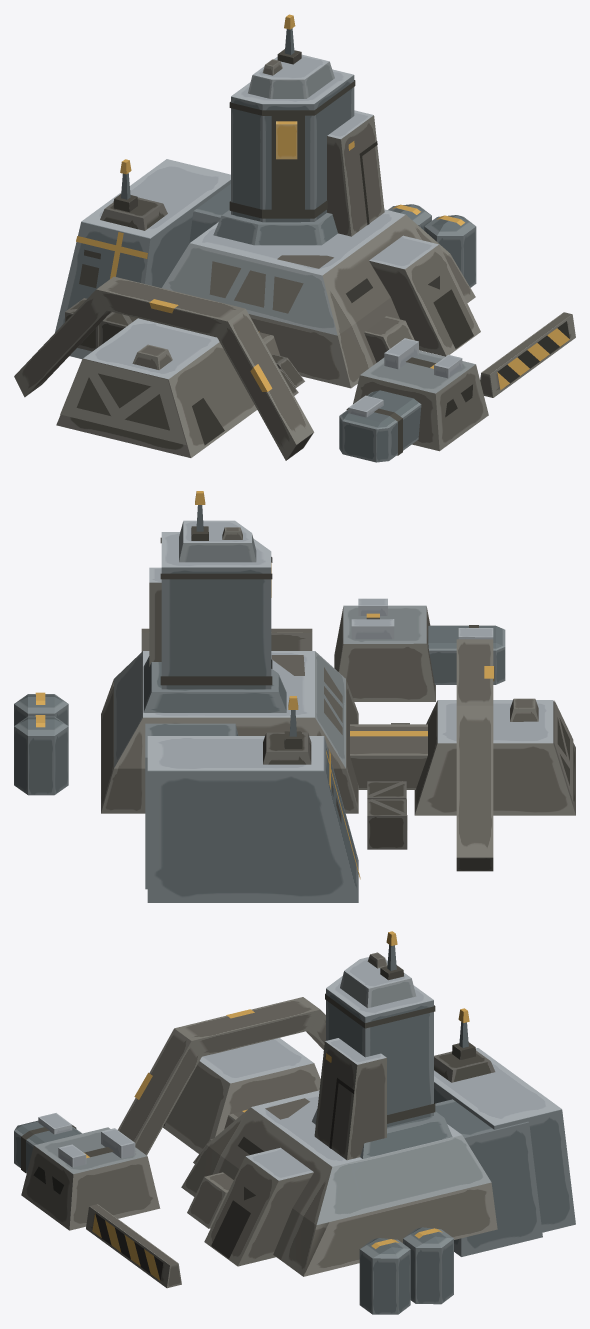
Rendered from outpost3.FBX.
The picture shows the model from 3 angles, top to bottom: view 1: azimuth 30°, elevation 25°; view 2: azimuth 150°, elevation 25°; view 3: azimuth 270°, elevation 25°; orthographic projection. The views are drawn at different scales.
Visible parts, largest first — view 1: outpost3, b, f, a, c; view 2: outpost3, b, c; view 3: outpost3, b, f.
Boxes of the visible parts, x1,y1,x2,y2 form: outpost3: (14,14,575,462); b: (100,159,167,230); f: (364,316,419,362); a: (276,121,297,159); c: (132,344,172,369); outpost3: (14,491,575,902); b: (263,696,311,764); c: (510,698,538,721); outpost3: (14,931,575,1314); b: (434,1008,495,1082); f: (187,1172,233,1228).
Size of the model in its own units: 162 by 169 by 105.
